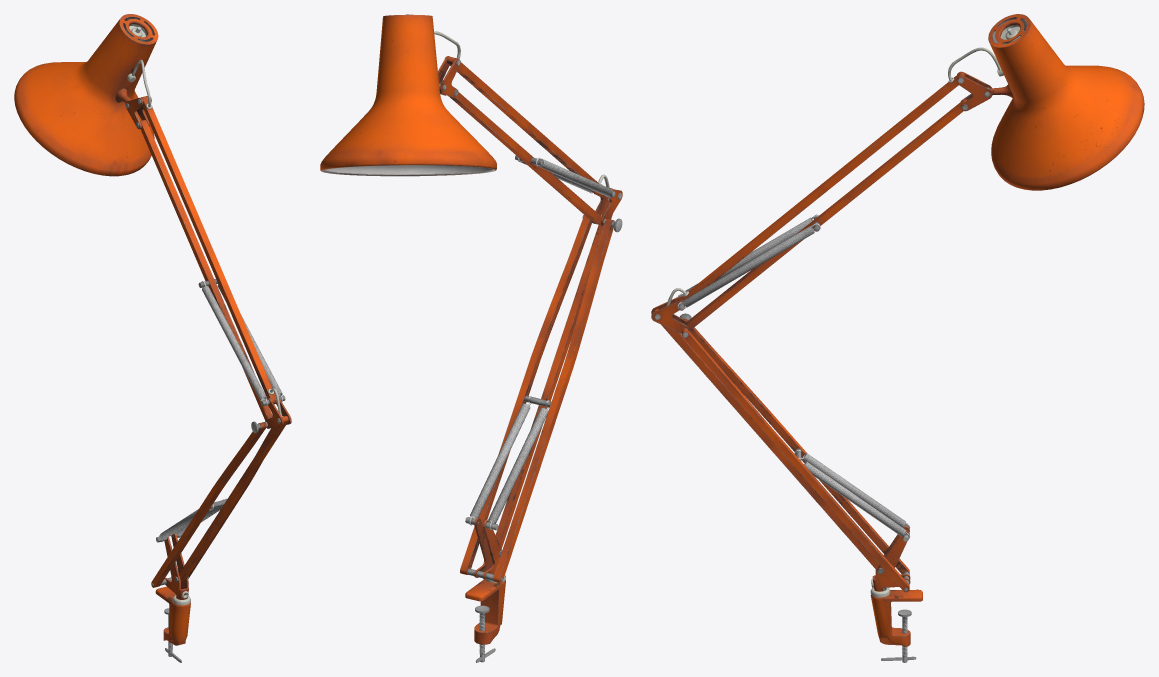
File: desk_lamp_arm_01.glb
3 views of the same model, side by side, from view 1: azimuth 30°, elevation 25°; view 2: azimuth 150°, elevation 25°; view 3: azimuth 270°, elevation 25° (orthographic). The views are drawn at different scales.
Visible parts, largest first — view 1: desk_lamp_arm_01; view 2: desk_lamp_arm_01; view 3: desk_lamp_arm_01.
Part boxes in pixels (left/top/right/bottom): desk_lamp_arm_01: left=14, top=14, right=291, bottom=662; desk_lamp_arm_01: left=320, top=14, right=622, bottom=662; desk_lamp_arm_01: left=651, top=14, right=1144, bottom=662.
Bounding box in the file's own units: 0.2017 × 0.8926 × 0.6139.
Materials: 2 (2 with a texture image).
